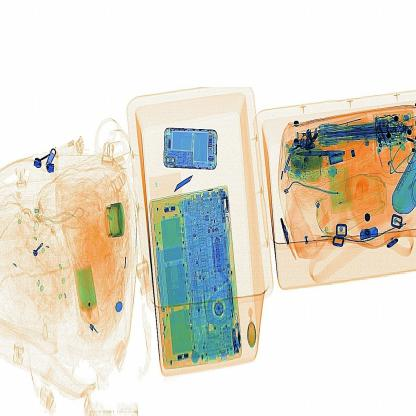pliers: (172, 169, 199, 200)
